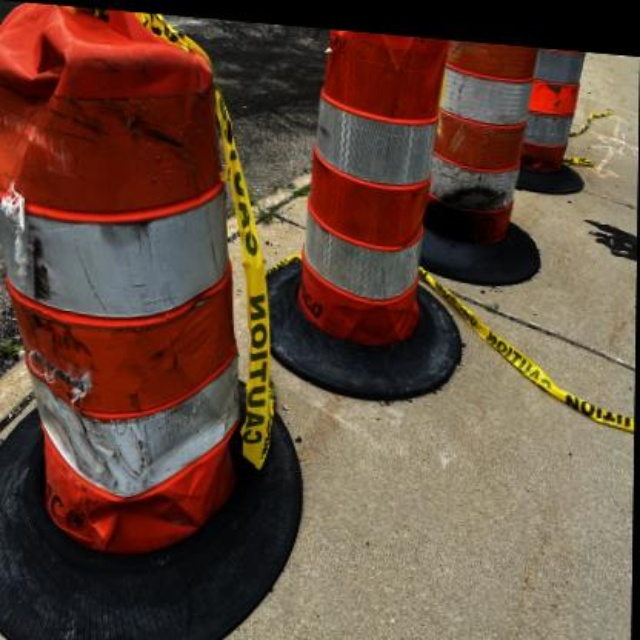obstacle: (0, 9, 251, 563), (322, 35, 423, 348)
